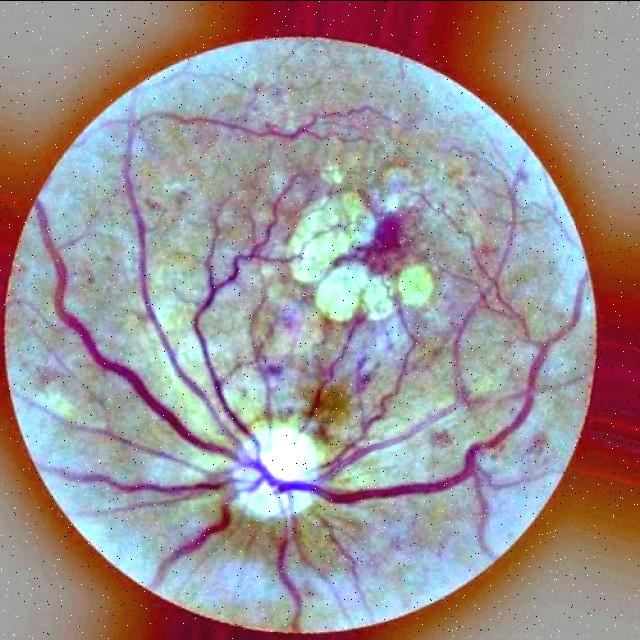Macula: (354, 202, 411, 276)
Nerves: (51, 161, 274, 572), (283, 273, 580, 514), (324, 167, 551, 478), (295, 317, 361, 436), (270, 520, 312, 623)
Optic Disk: (224, 420, 323, 526)
